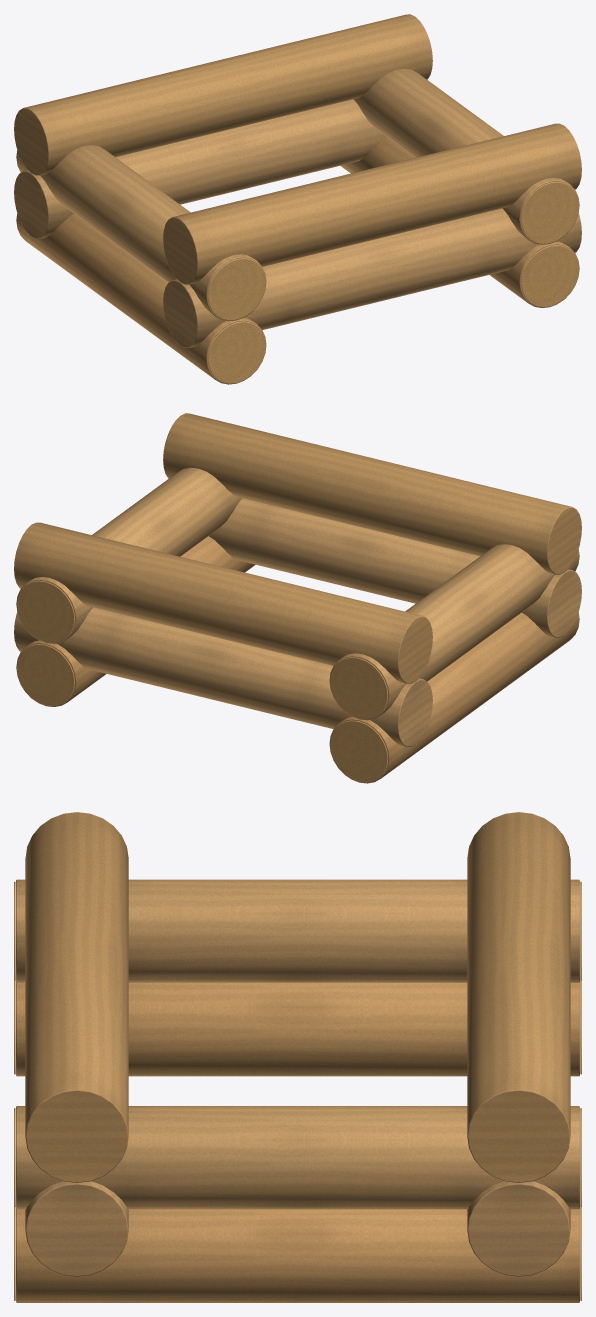
Rendered from 4-crossed-log-courses-4.fbx.
The picture shows the model from 3 angles, top to bottom: view 1: azimuth 30°, elevation 25°; view 2: azimuth 150°, elevation 25°; view 3: azimuth 270°, elevation 25°; orthographic projection. The views are drawn at different scales.
Visible parts, largest first — view 1: crossed-log-courses-4; view 2: crossed-log-courses-4; view 3: crossed-log-courses-4.
Boxes of the visible parts, x1,y1,x2,y2 form: crossed-log-courses-4: (14, 14, 581, 384); crossed-log-courses-4: (14, 413, 581, 783); crossed-log-courses-4: (14, 812, 581, 1302).
Bounding box in the file's own units: 7000 × 2750 × 6042.
Materials: 1 (1 with a texture image).
